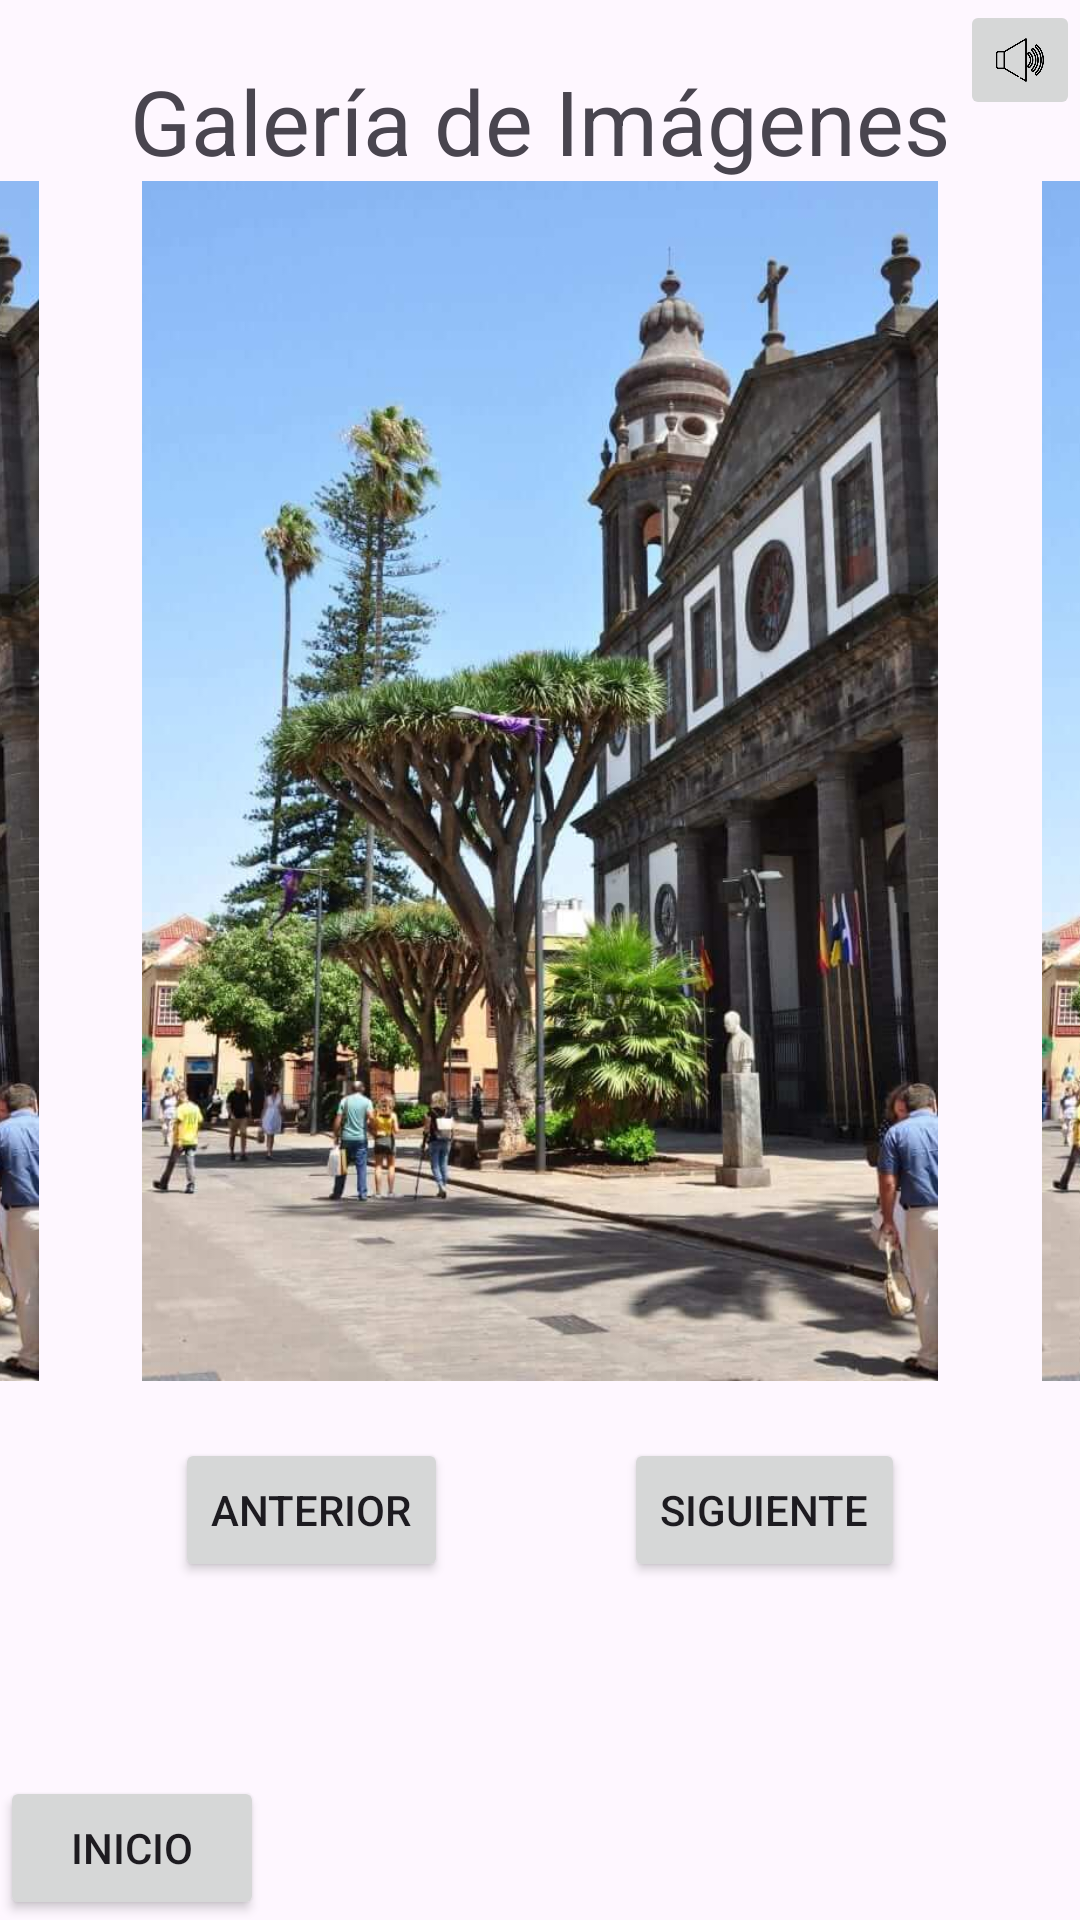

Named icons in this screenshot (1080px×1920px) and their bounding boxes, (x1, y1, x2, y2):
altavozsonando: (972, 18, 1068, 102)
